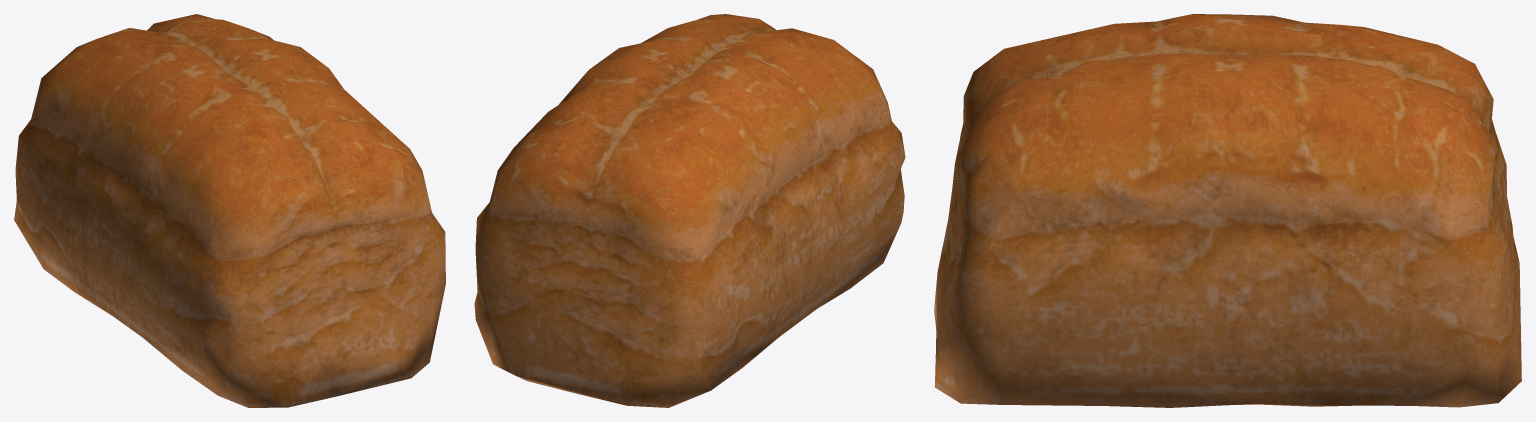
File: Bread_10.obj
The picture shows the model from 3 angles, left to right: view 1: azimuth 30°, elevation 25°; view 2: azimuth 150°, elevation 25°; view 3: azimuth 270°, elevation 25°; orthographic projection. The views are drawn at different scales.
Parts seen in each view (by area): view 1: bread4_c_mesh; view 2: bread4_c_mesh; view 3: bread4_c_mesh.
Part boxes in pixels (left/top/right/bottom): bread4_c_mesh: left=14, top=14, right=445, bottom=407; bread4_c_mesh: left=474, top=14, right=905, bottom=407; bread4_c_mesh: left=934, top=14, right=1521, bottom=407.
Size of the model in its own units: 0.1617 by 0.1582 by 0.2673.
